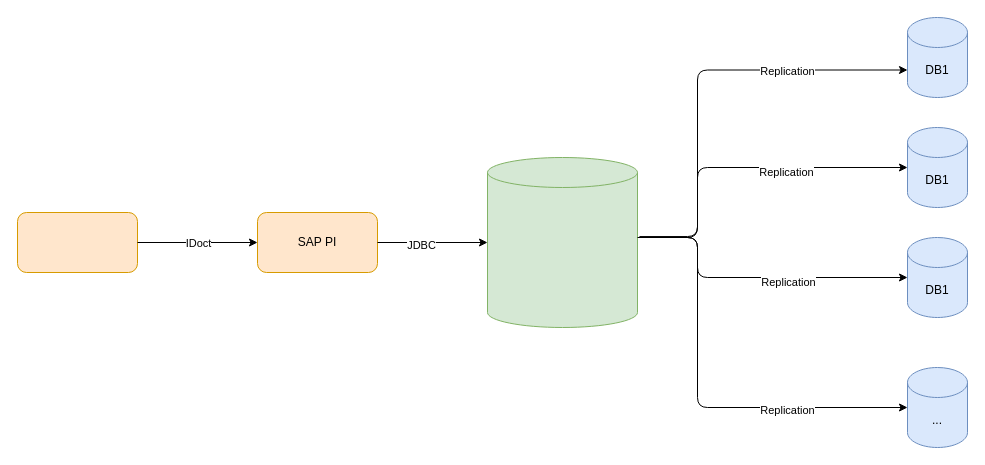
Image size: 985x465. Some labels were removed from this diagram. The box of each missing label's shape, as (x1, y1, x2, y2) in pixels:
SAP: (16, 212, 138, 272)
SQL Server Standard DB1 DB2 DB3 ....: (486, 156, 638, 328)
